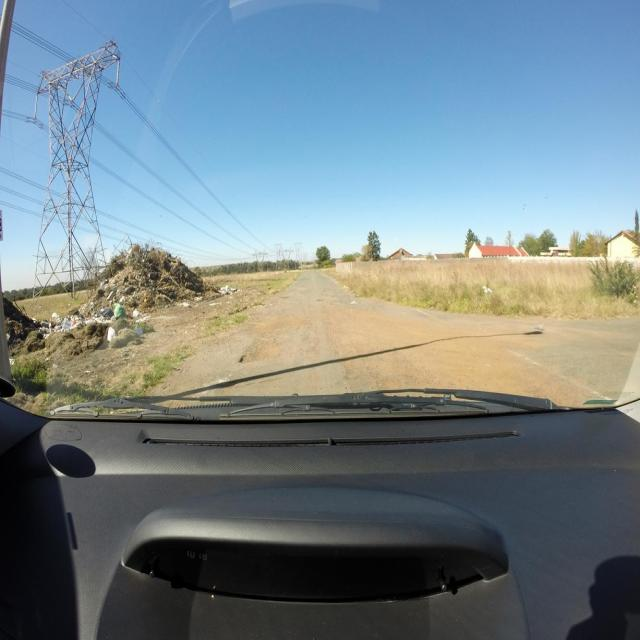Pothole: (239, 348, 278, 364)
